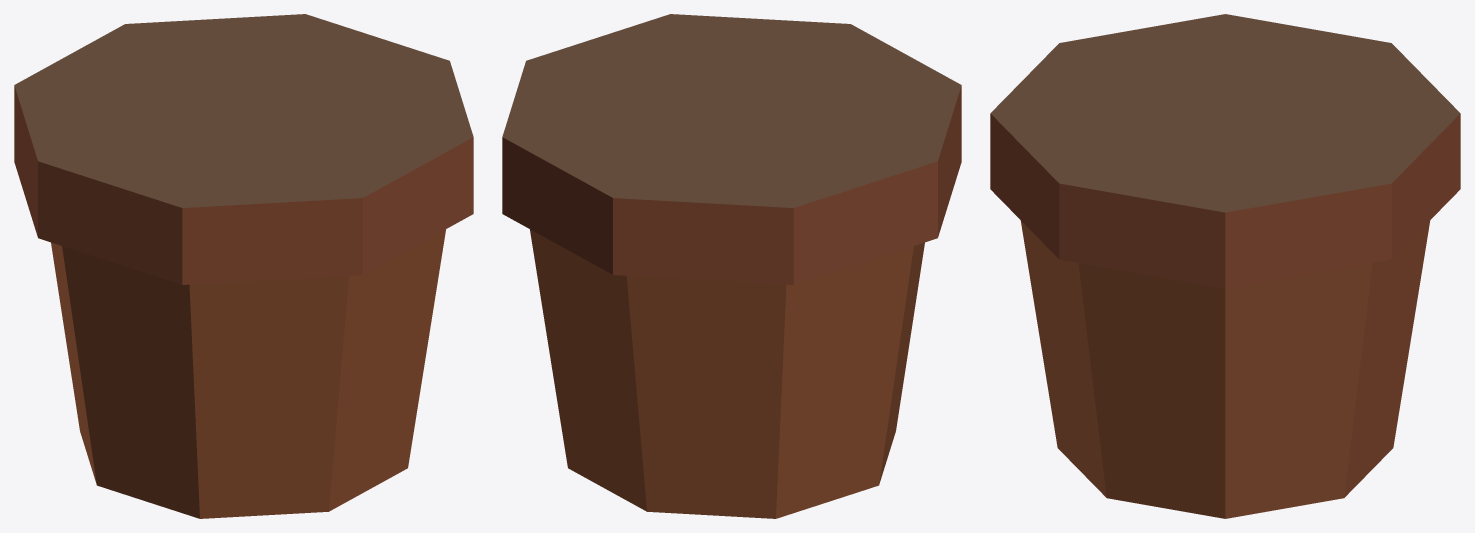
The model's file is seed_pot_empty.glb.
3 renders of one model, left to right at view 1: azimuth 30°, elevation 25°; view 2: azimuth 150°, elevation 25°; view 3: azimuth 270°, elevation 25°, orthographic.
Visible parts, largest first — view 1: seed_pot_empty; view 2: seed_pot_empty; view 3: seed_pot_empty.
Boxes of the visible parts, x1=… form: seed_pot_empty: x1=14, y1=14, x2=473, y2=518; seed_pot_empty: x1=502, y1=14, x2=961, y2=518; seed_pot_empty: x1=990, y1=14, x2=1460, y2=518.
Bounding box in the file's own units: 0.28 × 0.22 × 0.28.
